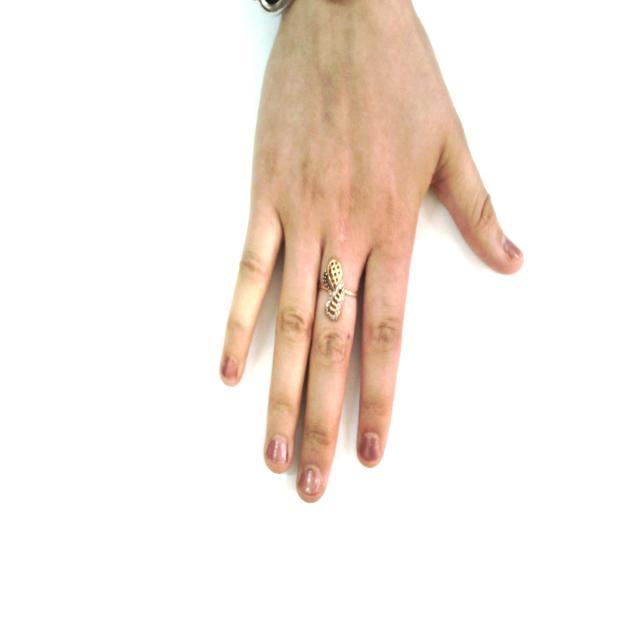Fingernail: (300, 467, 321, 496), (269, 437, 287, 463), (362, 434, 379, 460), (223, 359, 237, 382), (505, 238, 520, 258)
